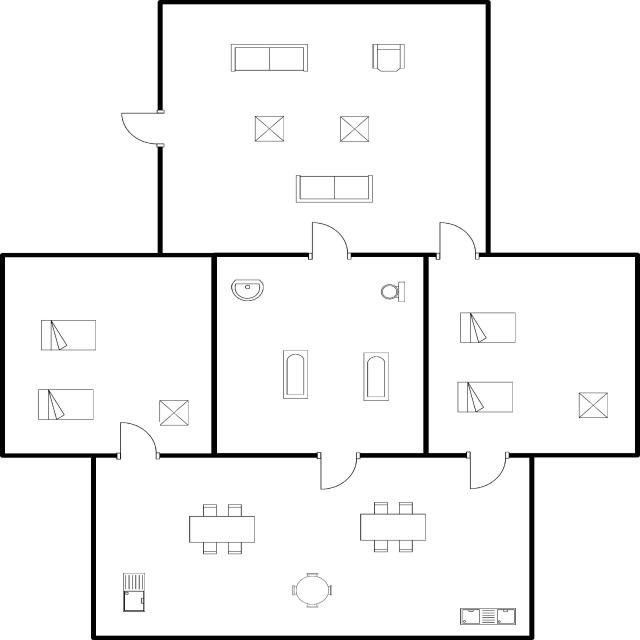armchair: (368, 39, 408, 75)
bed: (450, 377, 519, 419), (34, 317, 100, 356), (455, 308, 522, 346), (33, 385, 98, 424)
coffee_table: (335, 111, 375, 147), (574, 387, 612, 424), (250, 112, 288, 146), (155, 396, 195, 428)
dining_table: (184, 497, 261, 558), (355, 498, 431, 556)
large_sink: (377, 278, 411, 306)
large_sofa: (224, 40, 314, 77), (290, 171, 381, 206)
round_table: (288, 568, 336, 612)
sink: (117, 568, 150, 616)
small_sink: (226, 274, 268, 305)
tub: (277, 345, 312, 402), (358, 348, 392, 403)
twin_sink: (457, 604, 521, 630)
